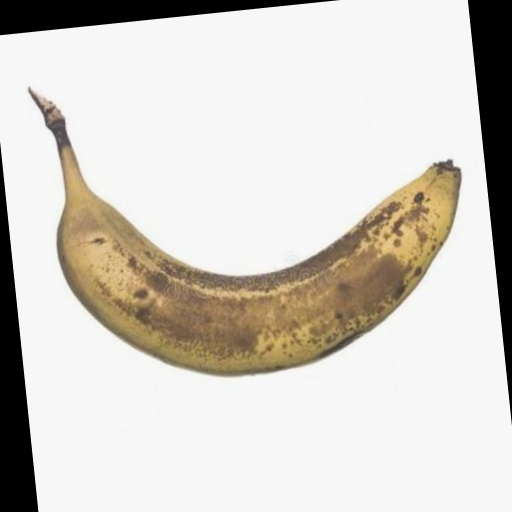fruit: (31, 90, 460, 374)
